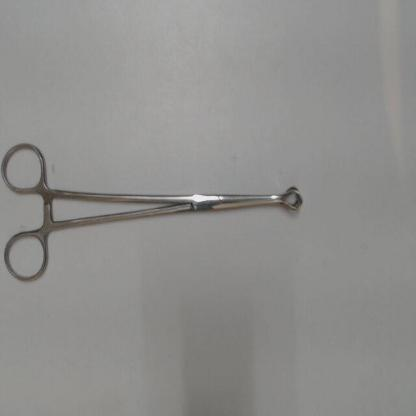8 Babcock Tissue Forceps: (0, 134, 307, 288)
